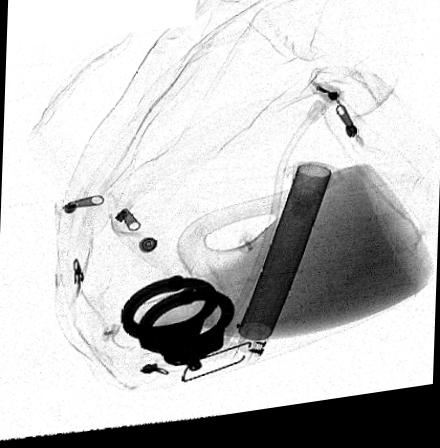HandCuffs: (119, 280, 235, 377)
